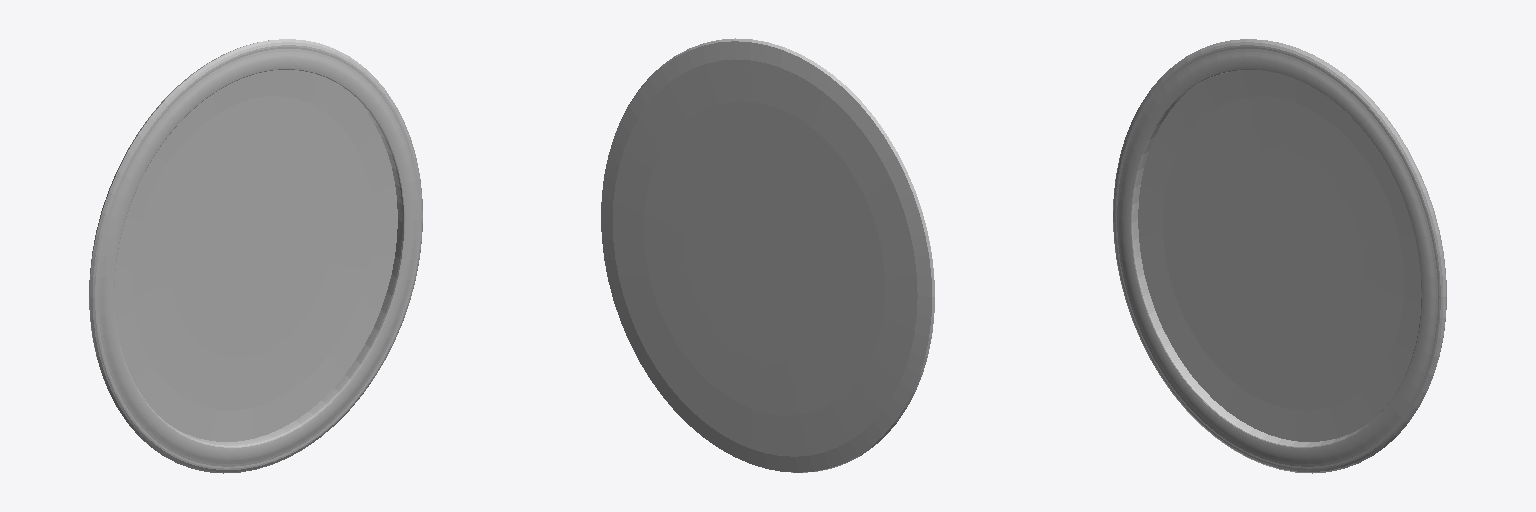
Rendered from Mirror.obj.
3 renders of one model, left to right at view 1: azimuth 30°, elevation 25°; view 2: azimuth 150°, elevation 25°; view 3: azimuth 330°, elevation 25°, orthographic.
Parts seen in each view (by area): view 1: Cylinder.001; view 2: Cylinder.001; view 3: Cylinder.001.
Boxes of the visible parts, <box> form: Cylinder.001: <box>89,39,422,473</box>; Cylinder.001: <box>601,38,934,472</box>; Cylinder.001: <box>1113,39,1446,473</box>.
Bounding box in the file's own units: 3.4 × 4.16 × 0.1284.